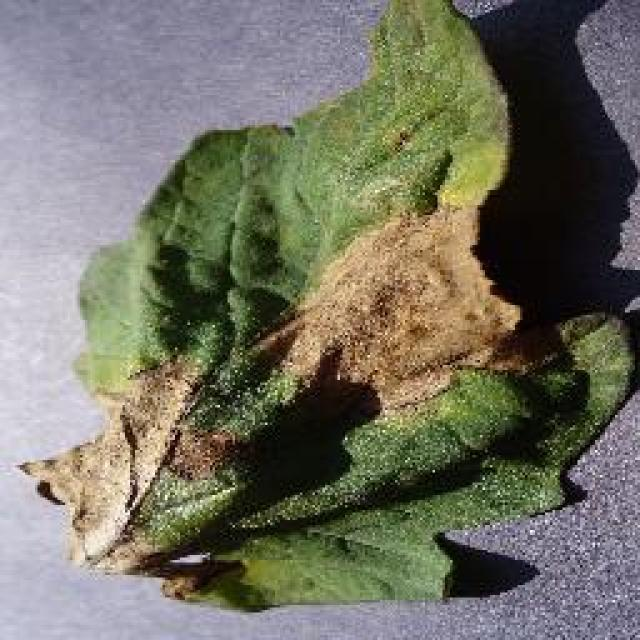Tomato Late Blight: (26, 237, 622, 570)
